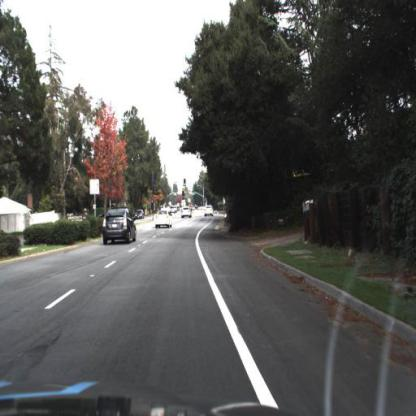car: (99, 206, 141, 249), (154, 207, 172, 232), (200, 201, 217, 224), (181, 204, 194, 225)
trafficLight-Green: (184, 177, 190, 191)
